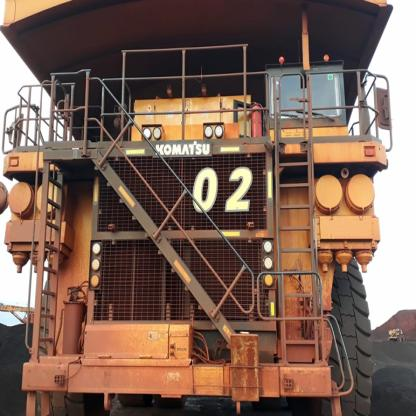dump_truck: (2, 4, 395, 415)
